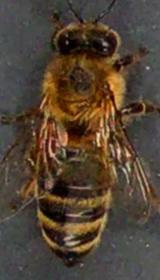varroa_mite: (35, 134, 62, 164)
